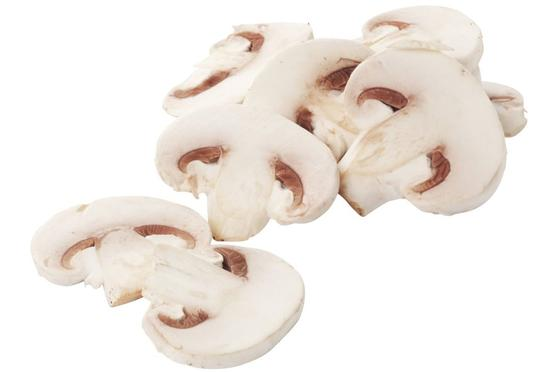champignon: (154, 106, 339, 242)
